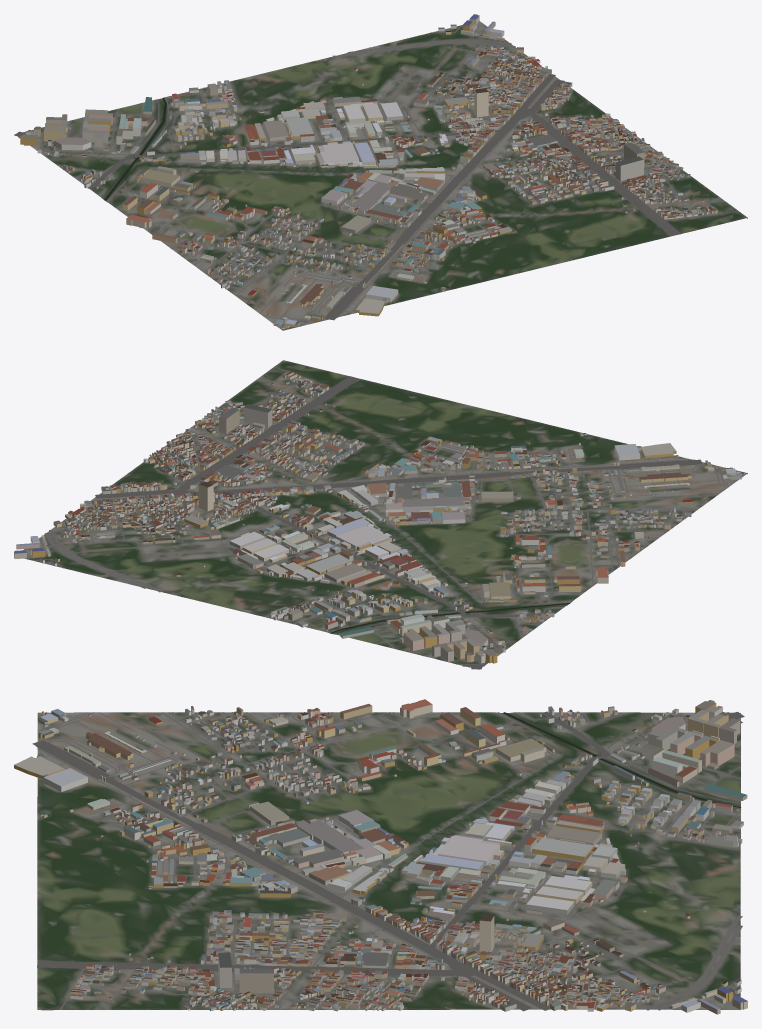
The picture shows the model from 3 angles, top to bottom: view 1: azimuth 30°, elevation 25°; view 2: azimuth 150°, elevation 25°; view 3: azimuth 270°, elevation 25°; orthographic projection. The views are drawn at different scales.
Parts seen in each view (by area): view 1: ground, buildings, roads; view 2: ground, buildings, roads; view 3: ground, buildings, roads.
Boxes of the visible parts, x1,y1,x2,y2 form: ground: (14, 21, 747, 330); buildings: (20, 14, 717, 328); roads: (14, 25, 738, 327); ground: (23, 360, 747, 669); buildings: (14, 371, 744, 663); roads: (23, 366, 742, 669); ground: (37, 712, 740, 1010); buildings: (14, 699, 747, 1014); roads: (32, 711, 744, 1011).
Bounding box in the file's own units: 1450 × 73.18 × 1463.
